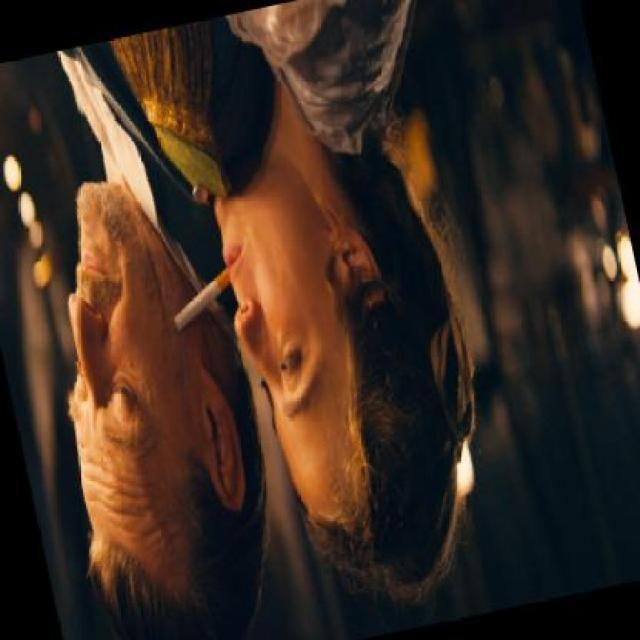cigarette: (160, 262, 238, 332)
